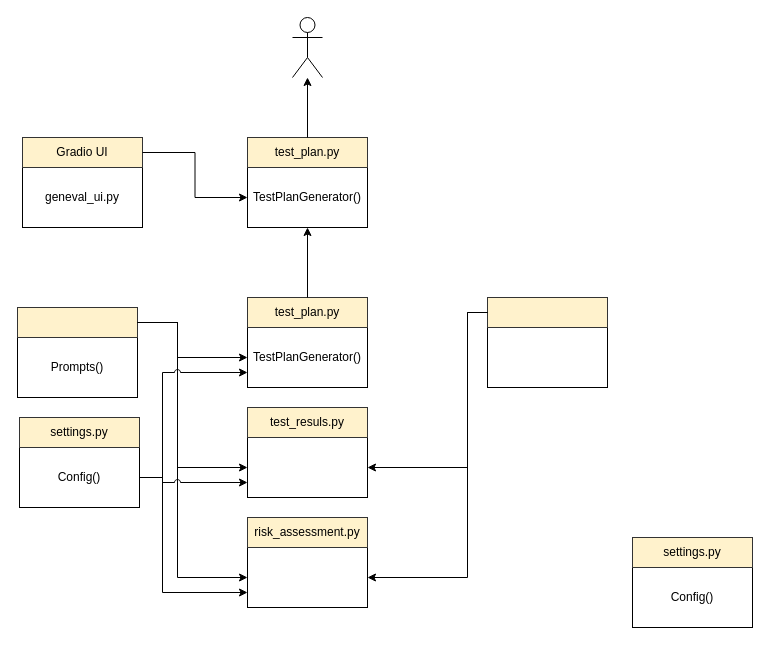
This 770x645 diagram has some shape labels left out. The shapes that lost their labels are listed below. From the top down, each one's box as (x1, y1, x2, y2) in pixels, then its label:
(16, 306, 138, 338): prompts.py
(486, 296, 608, 328): search_rag
